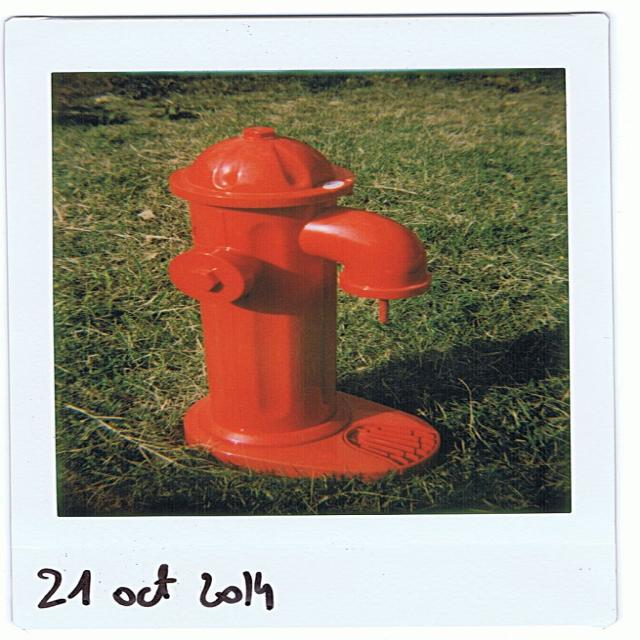fire_hydrant: (167, 124, 449, 482)
